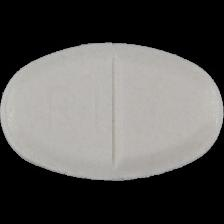55111-179: (0, 0, 224, 224)
